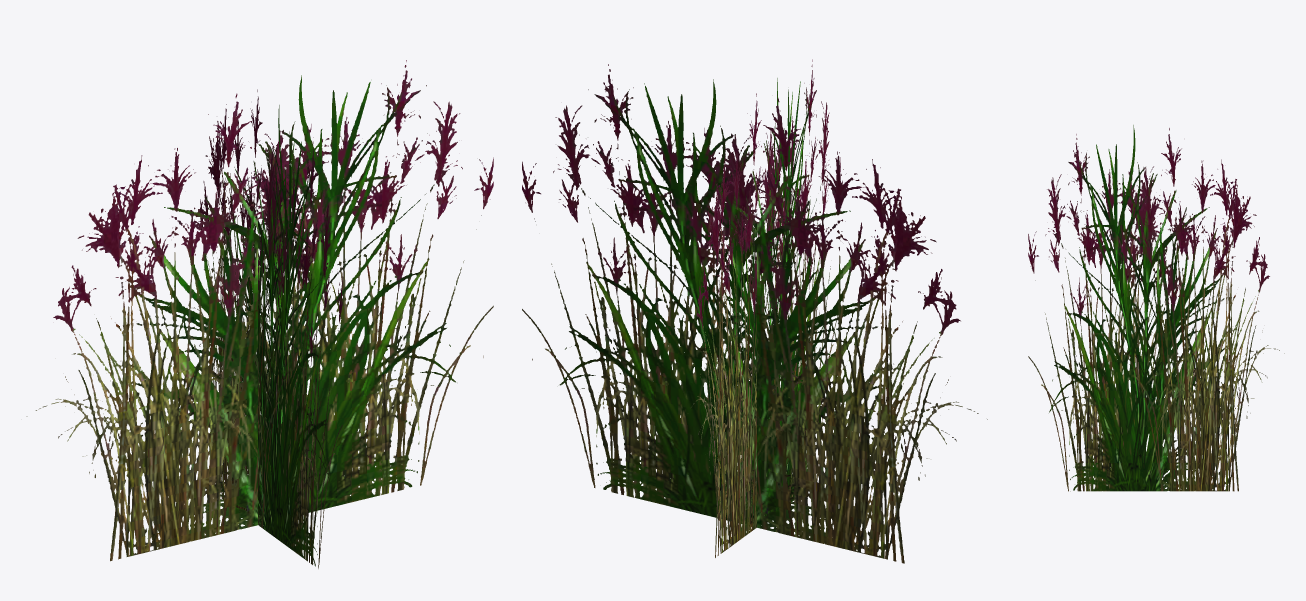
File: grass-.fbx
The picture shows the model from 3 angles, left to right: view 1: azimuth 30°, elevation 25°; view 2: azimuth 150°, elevation 25°; view 3: azimuth 270°, elevation 25°; orthographic projection. The views are drawn at different scales.
Visible parts, largest first — view 1: grass; view 2: grass; view 3: grass.
Boxes of the visible parts, x1,y1,x2,y2 form: grass: [26, 60, 493, 568]; grass: [522, 59, 987, 563]; grass: [1028, 125, 1284, 491].
Bounding box in the file's own units: 13.44 × 12.15 × 7.66.
1 material, 1 textured.
